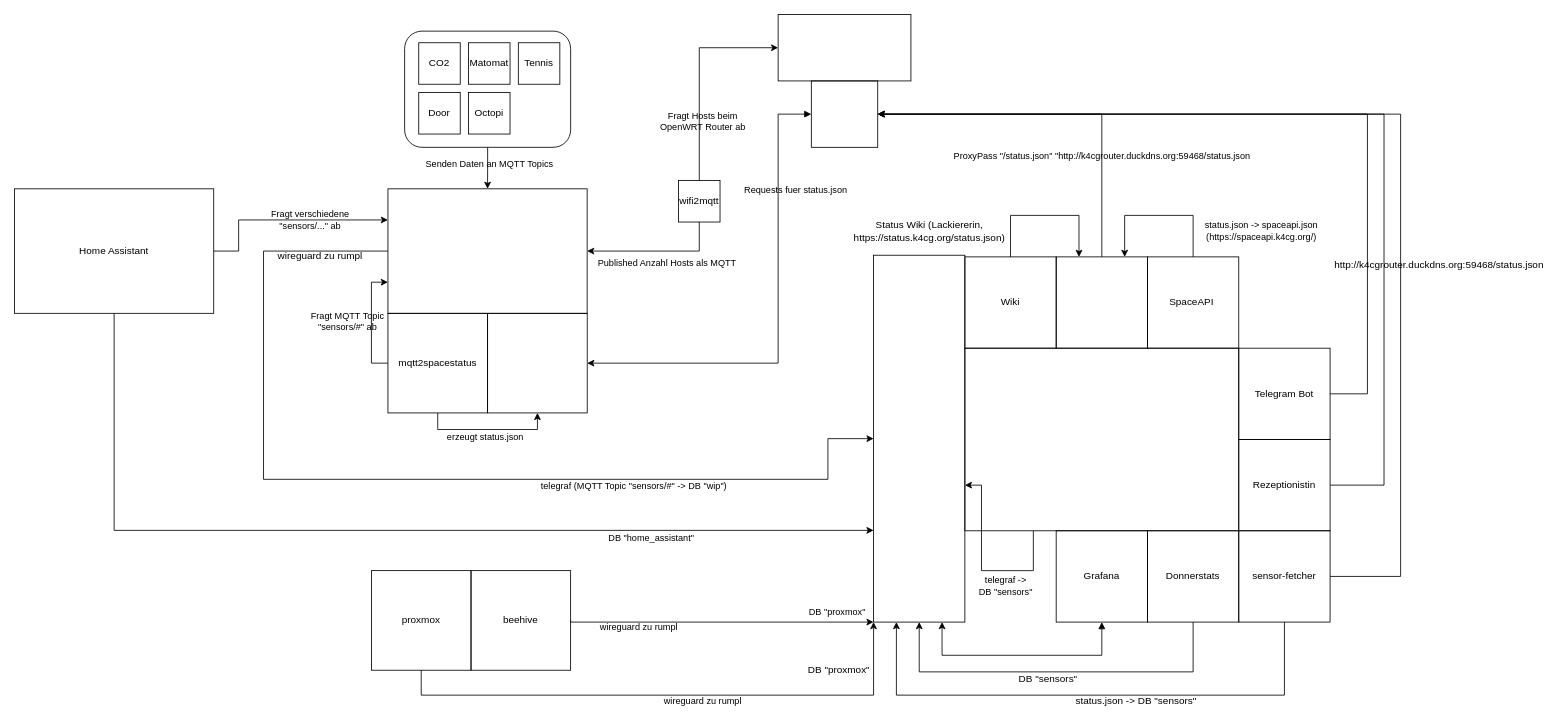
Some shapes in this 1557 by 720 pixel diagram are drawn without their labels. Here are the shapes that lost their labels. From the top down, the box of each, then its label:
(777, 14, 911, 81): router.intern.k4cg.org/ k4cgrouter.duckdns.org
(404, 30, 571, 147): Sensors
(810, 80, 878, 147): Port Forwarding
(387, 188, 587, 313): mqtt.intern.k4cg.org
(1055, 256, 1147, 348): httpd
(487, 312, 587, 413): httpd (Webserver fuer status.json)
(873, 254, 965, 622): InfluxDB
(964, 347, 1239, 531): rumpl
